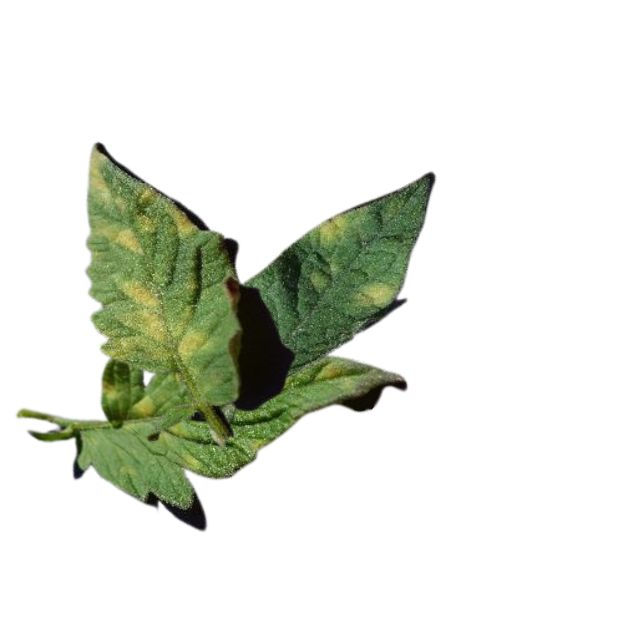Leaf_Mold: (104, 278, 210, 366), (86, 148, 160, 211), (90, 213, 156, 256), (315, 358, 359, 394), (316, 210, 351, 249), (355, 280, 398, 309), (168, 203, 198, 236), (130, 394, 160, 422), (100, 376, 117, 401)
